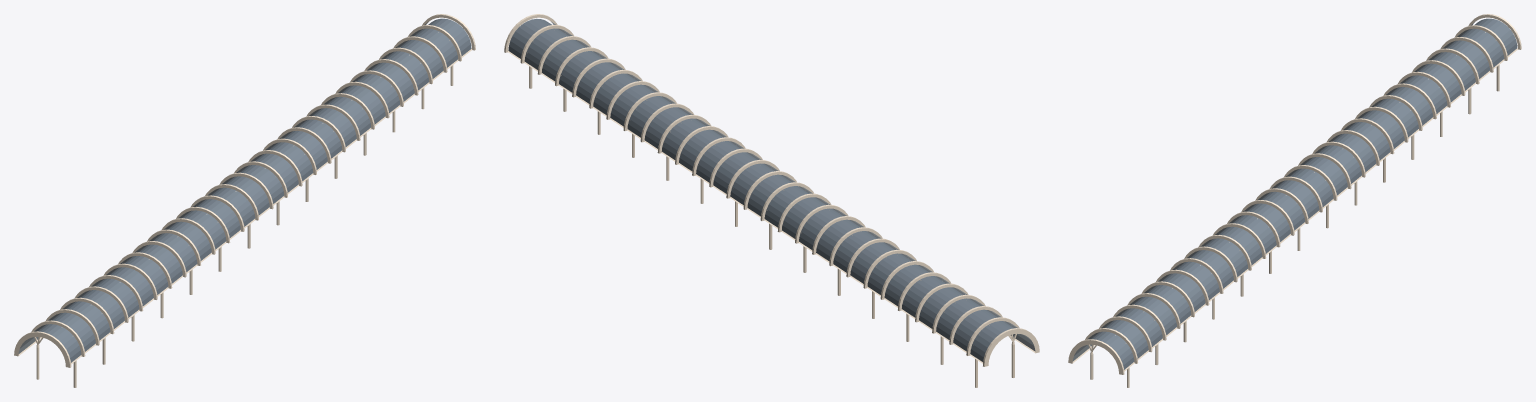
3 renders of one model, left to right at view 1: azimuth 90°, elevation 25°; view 2: azimuth 150°, elevation 25°; view 3: azimuth 270°, elevation 25°, orthographic. The views are drawn at different scales.
Parts seen in each view (by area): view 1: fremont-street-experience-canopy; view 2: fremont-street-experience-canopy; view 3: fremont-street-experience-canopy.
Part boxes in pixels (x1,y1,x2,y2): fremont-street-experience-canopy: [14, 14, 475, 387]; fremont-street-experience-canopy: [504, 14, 1039, 387]; fremont-street-experience-canopy: [1068, 14, 1521, 387].
Bounding box in the file's own units: 387 × 33.1 × 224.
